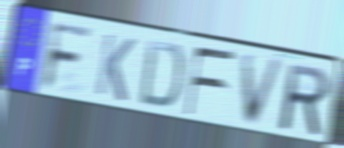D: (136, 37, 187, 112)
F: (38, 20, 96, 95), (183, 45, 238, 118)
K: (93, 30, 138, 105)
R: (279, 61, 332, 139)
V: (240, 53, 288, 128)
